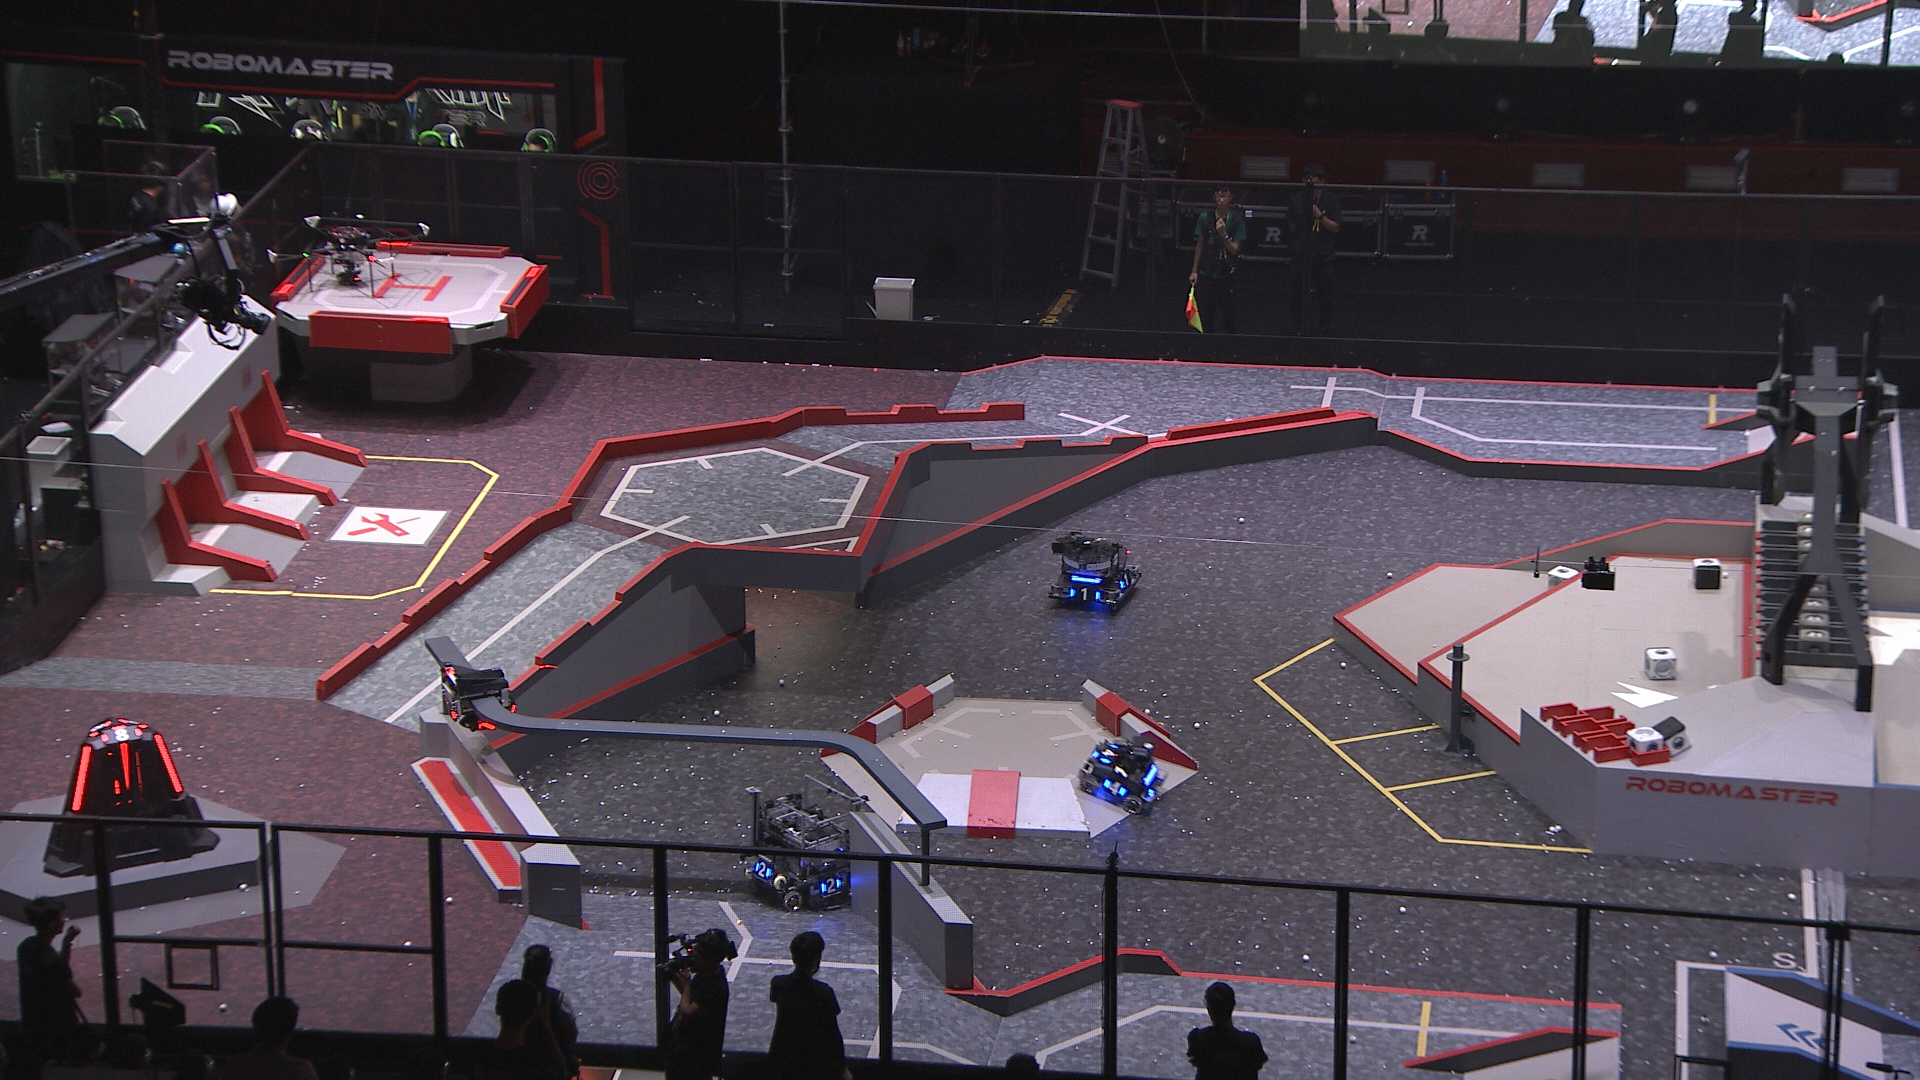armor: (154, 731, 185, 796), (71, 744, 94, 816), (116, 742, 135, 790), (98, 727, 144, 742), (1068, 585, 1101, 604), (439, 698, 458, 723), (1102, 778, 1127, 796), (818, 877, 843, 895), (1100, 742, 1120, 764), (752, 860, 773, 880), (1116, 571, 1133, 589)
base: (41, 713, 219, 880)
car: (738, 774, 872, 911), (1044, 531, 1145, 615), (1077, 738, 1163, 814)
watcher: (436, 665, 517, 733)
